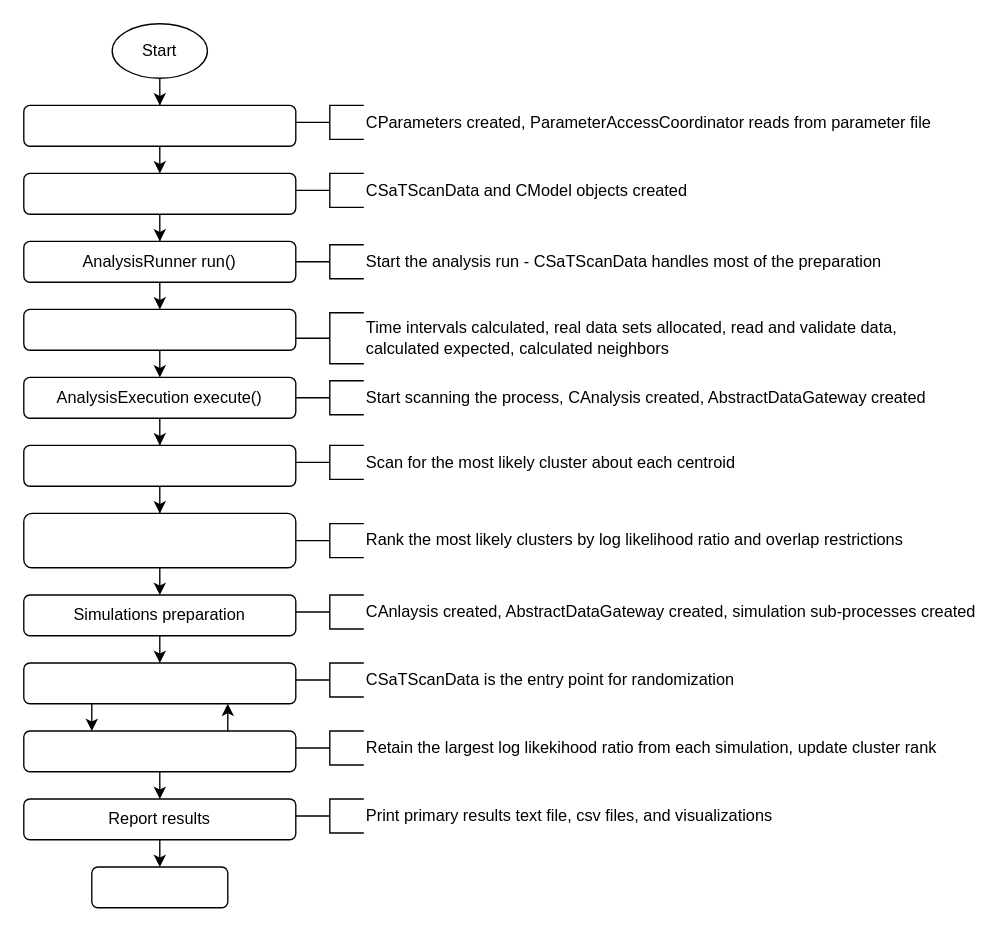
The diagram is 1000 pixels wide and 932 high, and some of its shapes have lost their labels. Here are the shapes that lost their labels. From the top down, the centre of each, then its label:
(x=159, y=125): Read and validate parameters
(x=159, y=193): AnalysisRunner created
(x=159, y=329): Scan preparation
(x=159, y=465): CAnalysis - FindTopClusters()
(x=159, y=540): MostLikelyClustersContainer – RankTopClusters()
(x=159, y=683): Randomize data
(x=159, y=751): Calculate largest log likelihood ratio
(x=159, y=887): End
